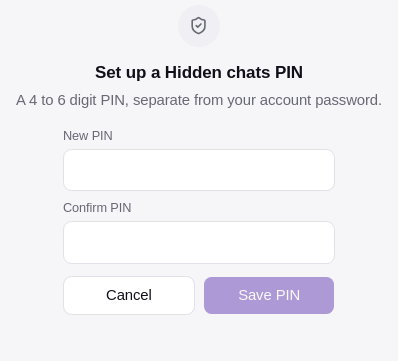
it: SetHiddenChatsPinForm › shows a server error message on failure
Type "4321" into the password field labelled "New PIN" at (199, 170), box [63, 149, 335, 192]
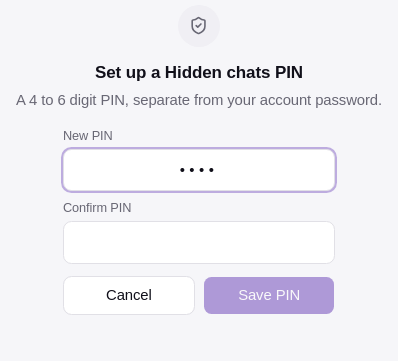
Type "4321" into the password field labelled "Confirm PIN" at (199, 242), box [63, 221, 335, 264]
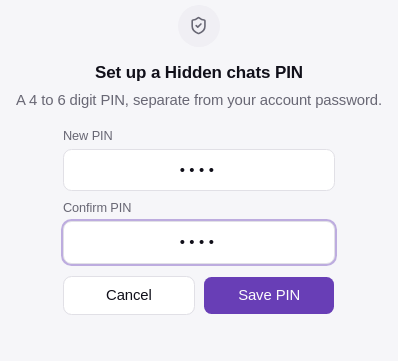
Click the button "Save PIN" at (269, 296), box [203, 276, 335, 315]
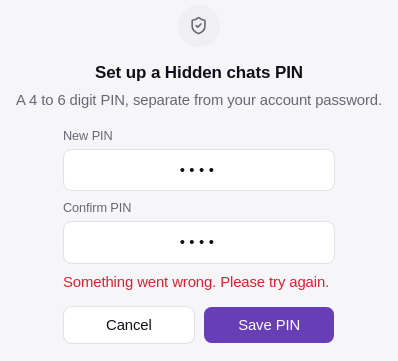
Expected: the text "Something went wrong. Please try again." is shown, [63, 272, 335, 294]
